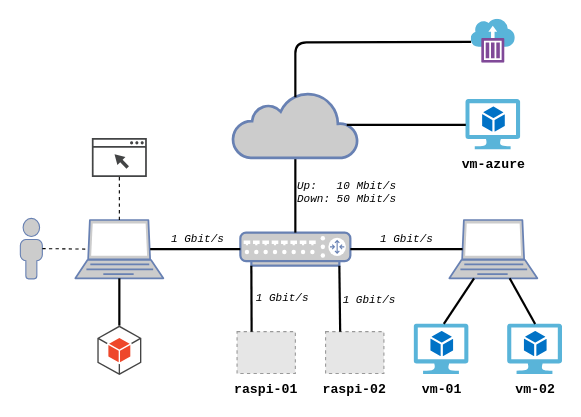
Some shapes in this 581 by 417 pixel diagram are drawn without their labels. Grey dashed boxes stand in for pictures. The box of each missing label's shape, as (x1, y1, x2, y2) in pixels:
MQTT broker: (471, 19, 515, 63)
orchestrator: (96, 324, 141, 375)
